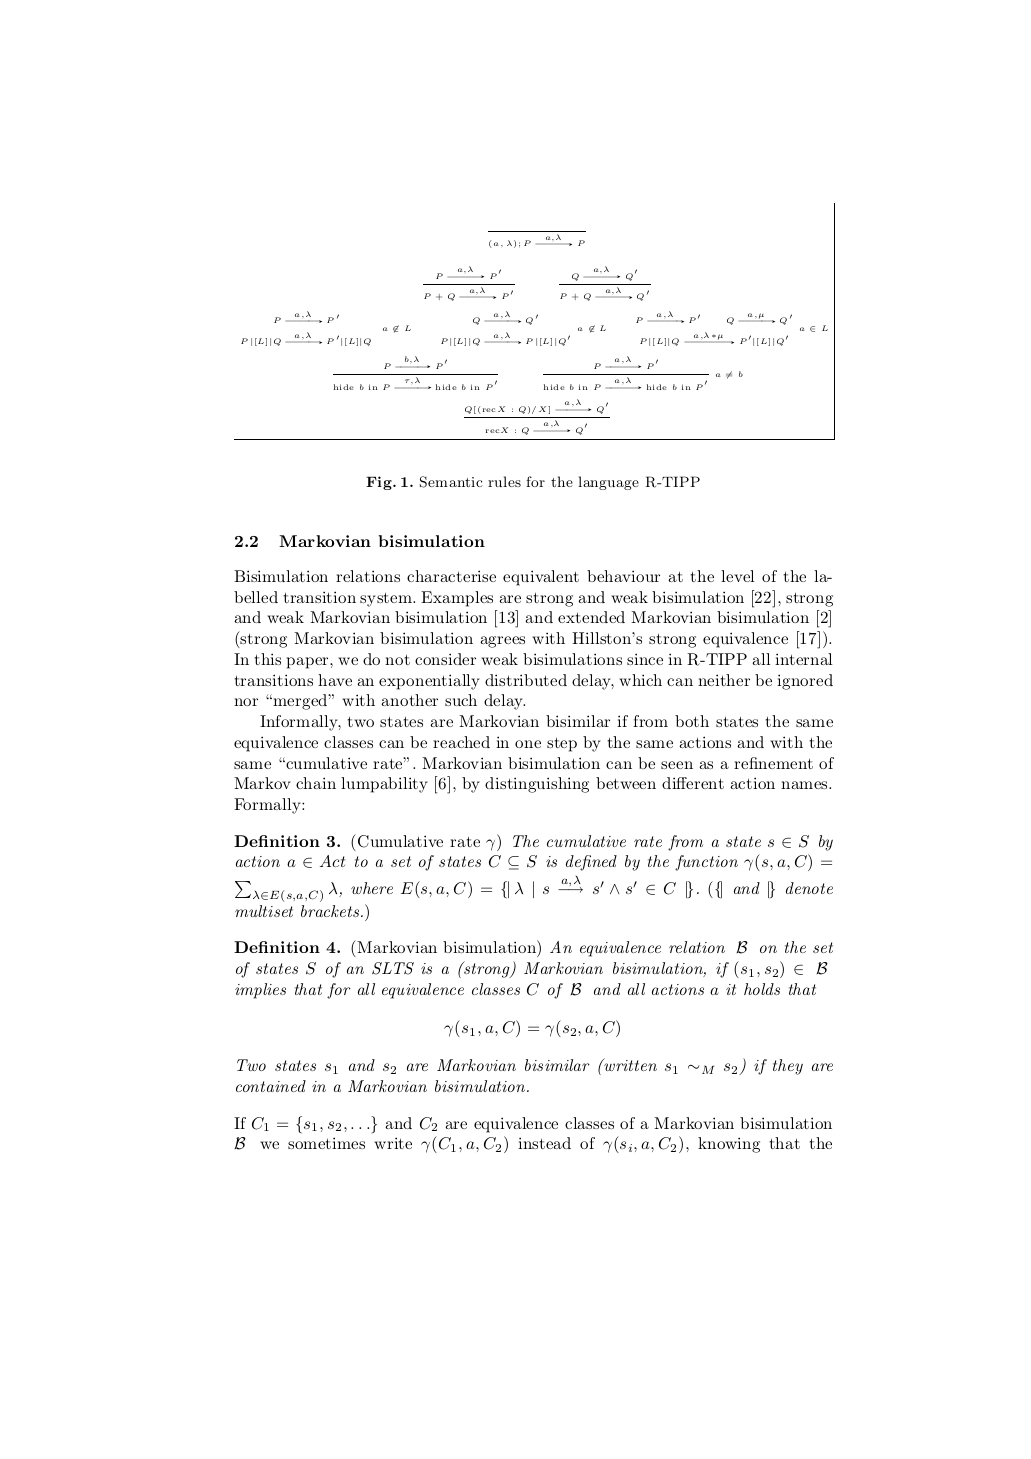figure: (241, 202, 834, 438)
formula: (444, 1020, 619, 1038)
